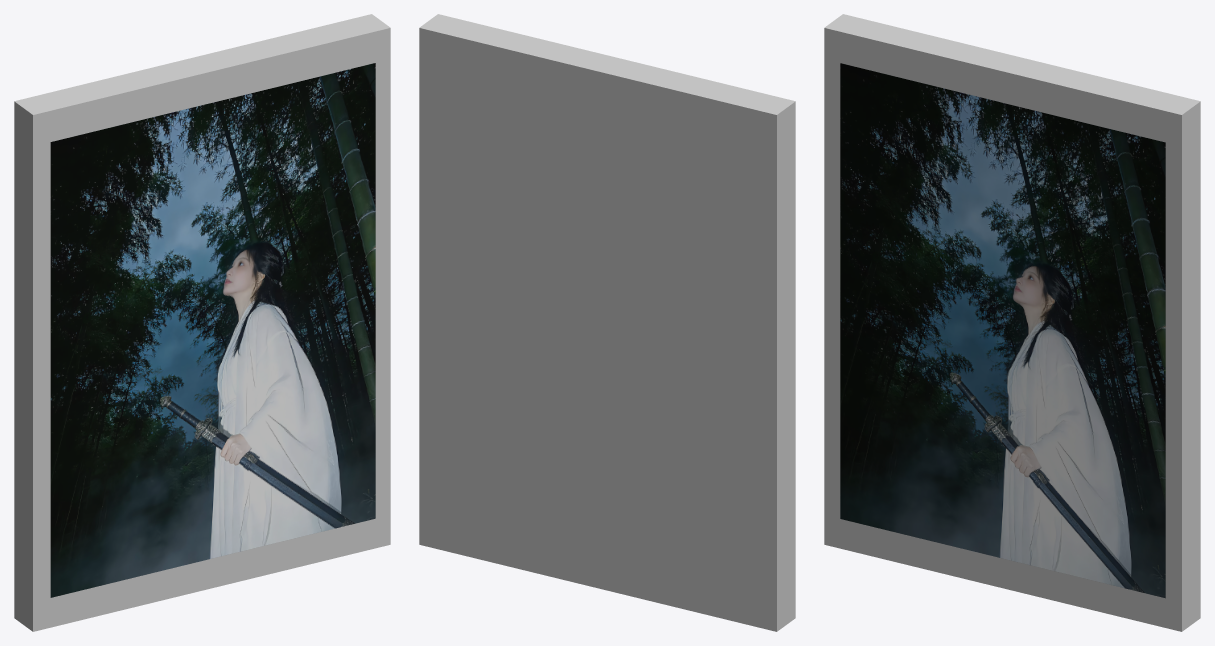
Rendered from zhen (2).glb.
3 views of the same model, side by side, from view 1: azimuth 30°, elevation 25°; view 2: azimuth 150°, elevation 25°; view 3: azimuth 330°, elevation 25° (orthographic).
Visible parts, largest first — view 1: 平面, 立方体; view 2: 立方体; view 3: 平面, 立方体.
Part boxes in pixels (x1,y1,x2,y2): 平面: (50, 63, 375, 597); 立方体: (14, 14, 390, 631); 立方体: (419, 14, 795, 631); 平面: (840, 63, 1165, 598); 立方体: (824, 14, 1200, 631).
Size of the model in its own units: 1.64 by 2.27 by 0.1551.
1 material, 1 textured.
